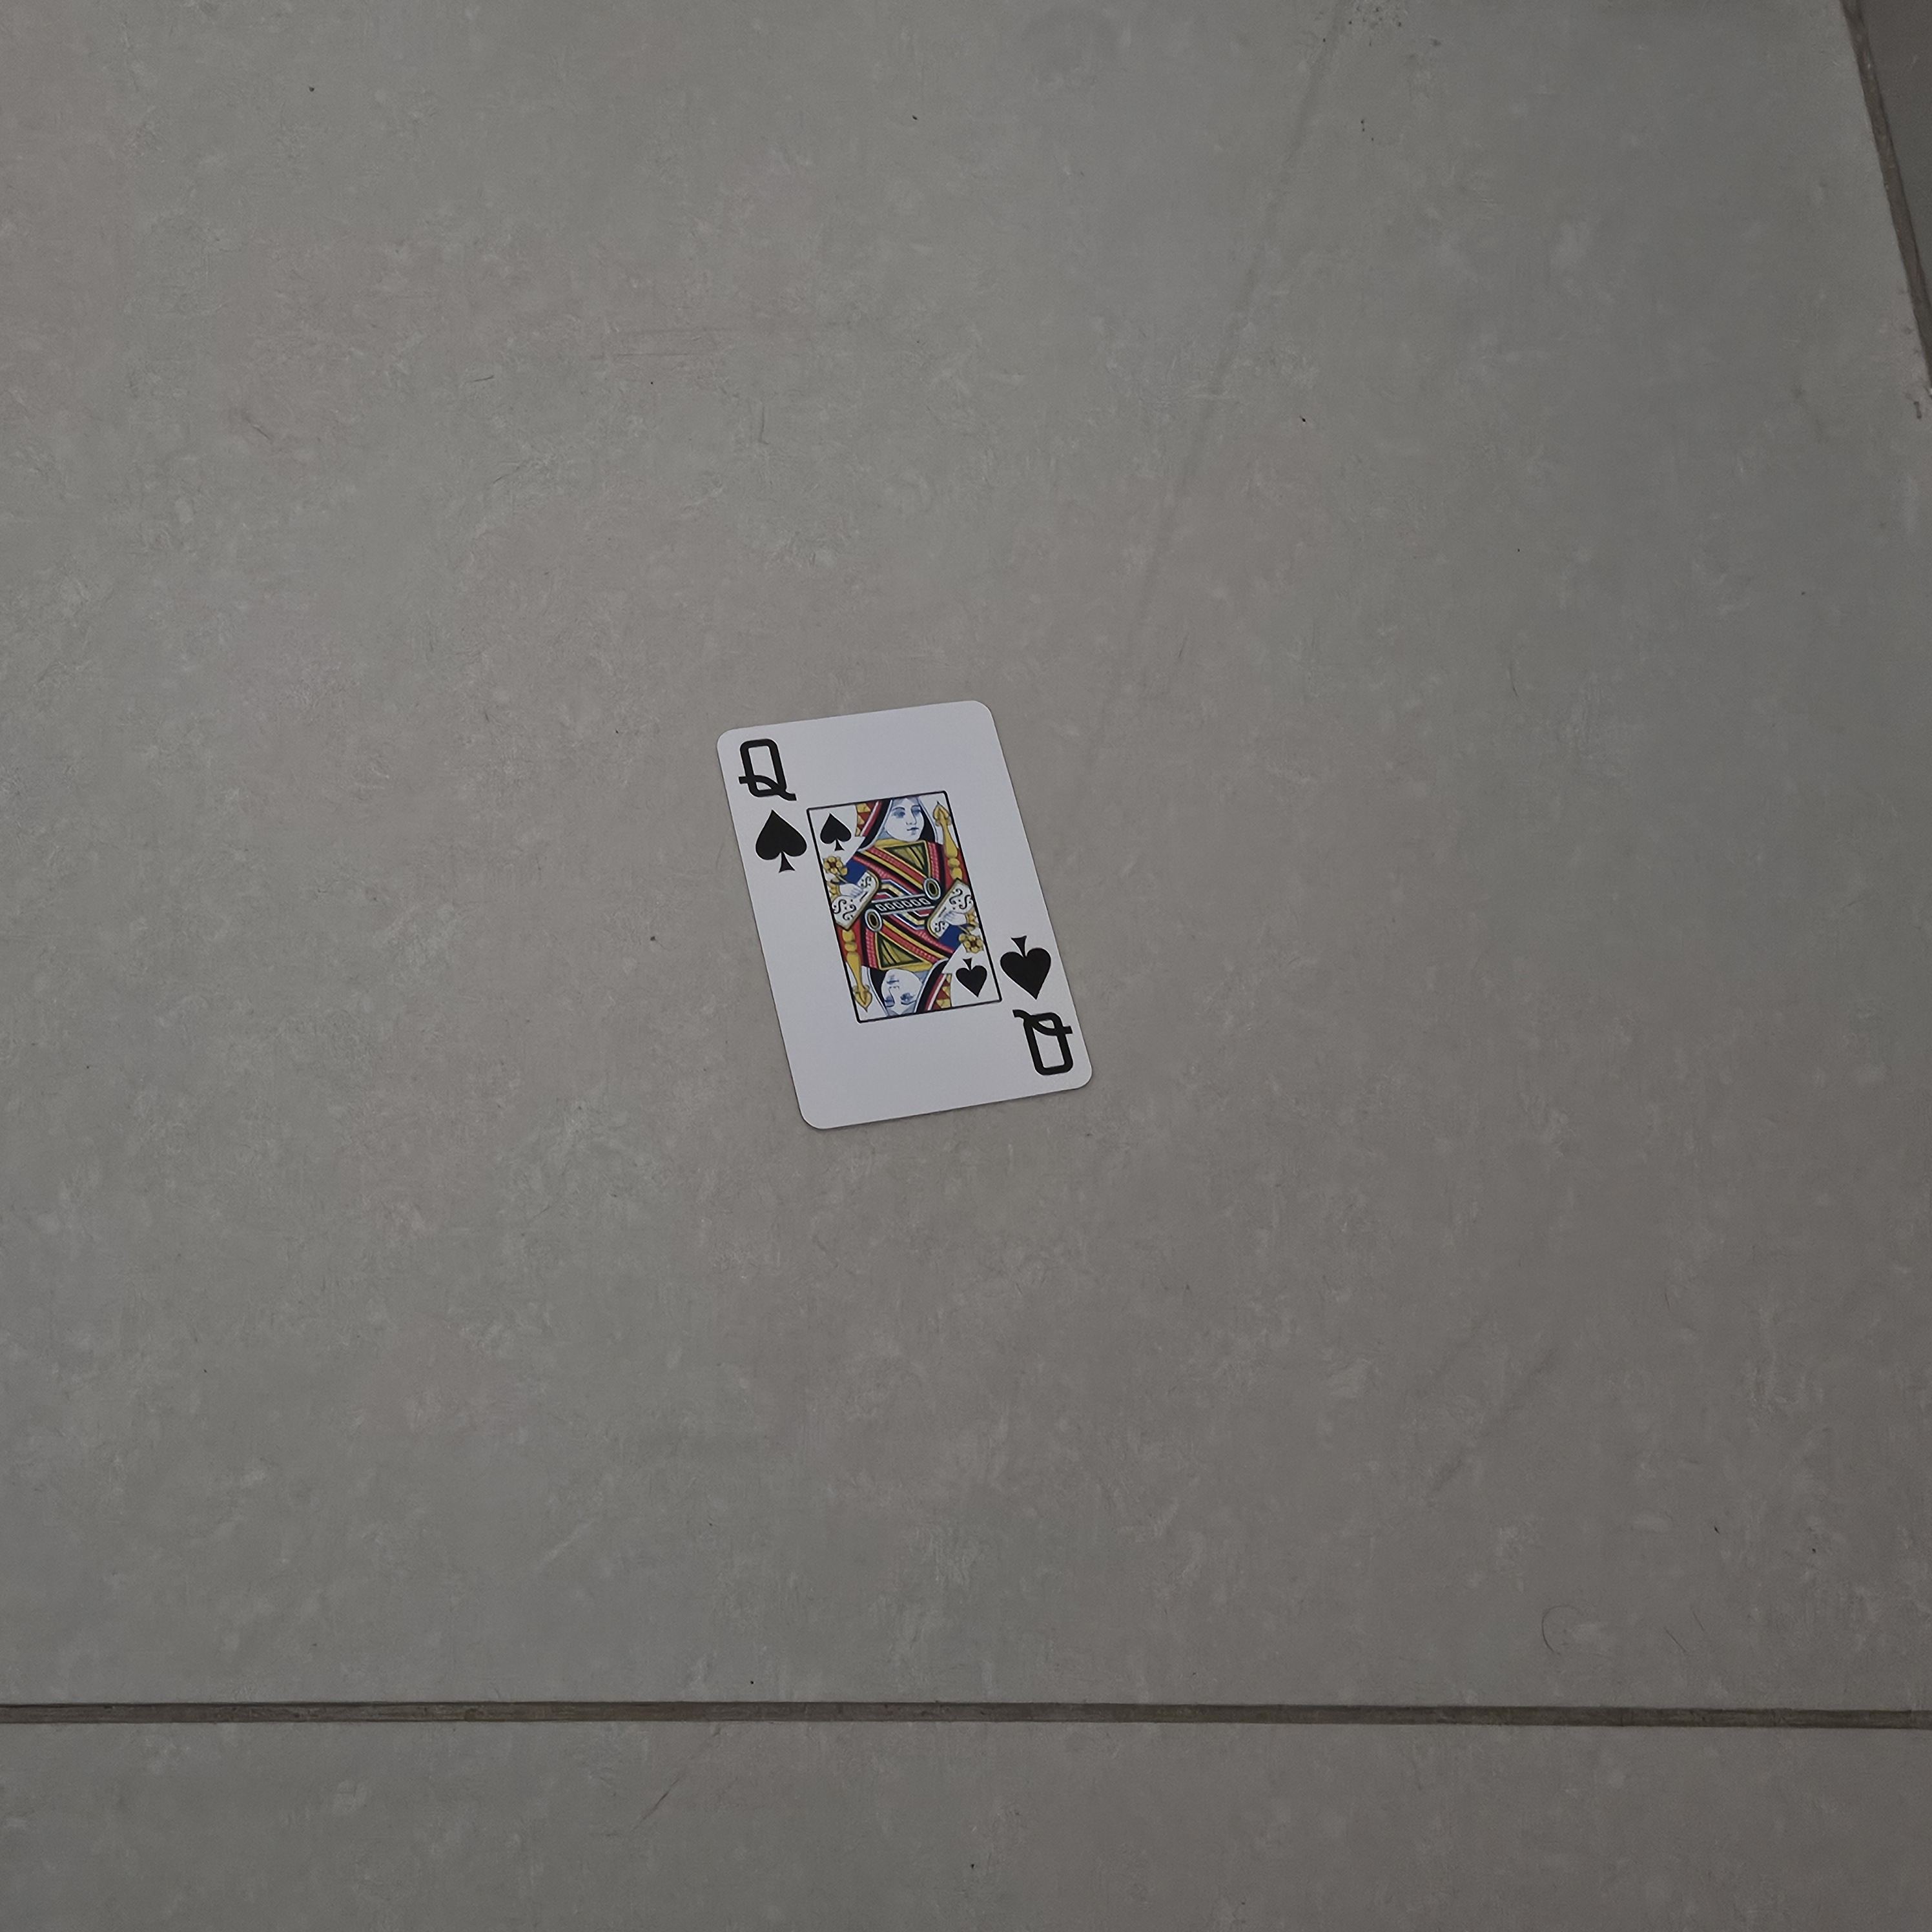QE: (989, 920, 1095, 1092), (713, 715, 816, 883)
